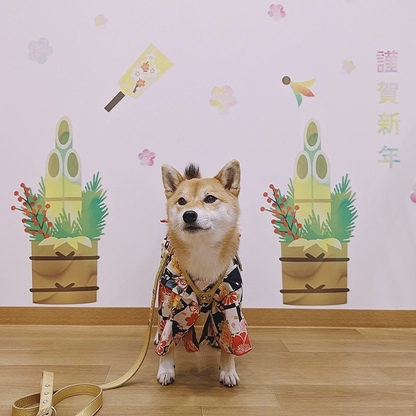shiba: (141, 151, 259, 393)
